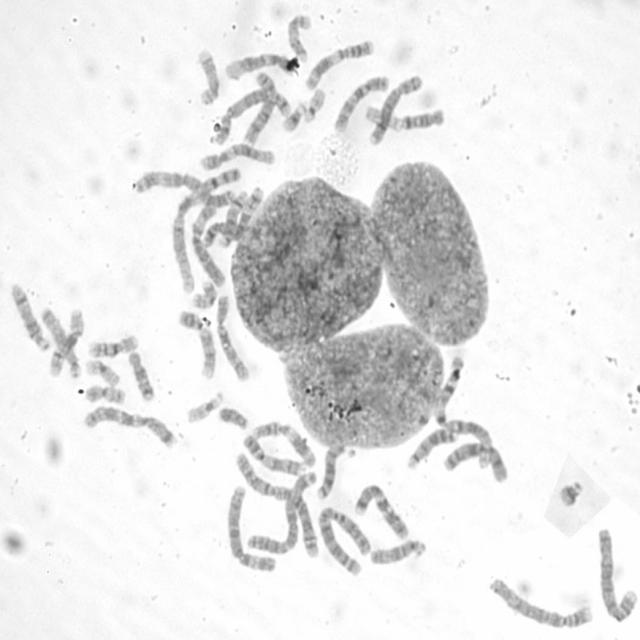A1: (168, 165, 243, 296), (433, 356, 493, 471)
A2: (234, 452, 320, 559), (317, 506, 371, 576)
A3: (246, 471, 319, 556), (132, 170, 235, 207)
B4: (488, 574, 594, 631), (598, 526, 638, 624)
B5: (210, 87, 292, 148), (200, 184, 265, 248)
C10: (334, 74, 391, 133), (214, 294, 252, 382)
C11: (304, 38, 374, 93), (252, 421, 318, 468)
C12: (200, 143, 276, 172), (224, 52, 293, 80)
C6: (228, 485, 278, 574), (190, 203, 229, 288)
C7: (84, 404, 179, 449), (354, 482, 409, 542)
C8: (368, 74, 424, 148), (242, 70, 277, 148)
C9: (242, 434, 307, 478), (179, 309, 216, 380)
D13: (404, 427, 458, 471), (315, 446, 356, 501)
D14: (9, 282, 50, 353), (218, 190, 250, 247)
D15: (40, 306, 83, 379), (369, 538, 426, 566)
E16: (48, 308, 84, 380), (87, 333, 139, 359)
E17: (194, 45, 220, 106), (287, 11, 313, 64)
E18: (127, 351, 156, 402), (402, 108, 446, 130)
F19: (363, 104, 404, 134), (85, 358, 122, 391)
F20: (84, 385, 126, 403), (191, 280, 218, 308)
G21: (556, 478, 587, 509), (281, 100, 306, 134)
G22: (184, 390, 224, 424), (303, 86, 324, 125)
X: (442, 440, 508, 486)
Y: (219, 406, 249, 430)
